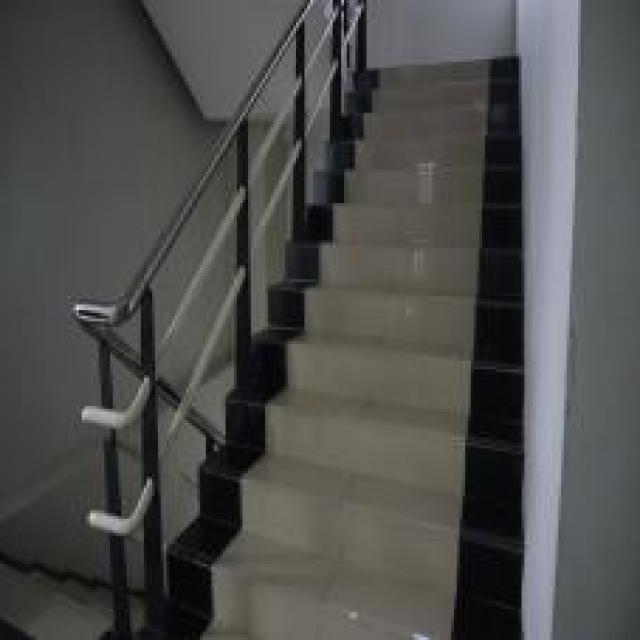upstair: (323, 117, 514, 520)
